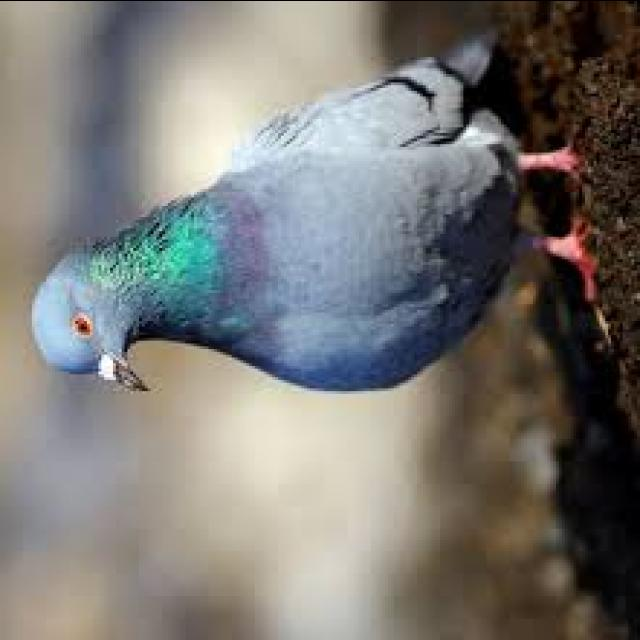pigeon: (13, 39, 580, 413)
